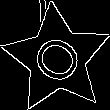O_SE: (24, 27, 89, 90)
